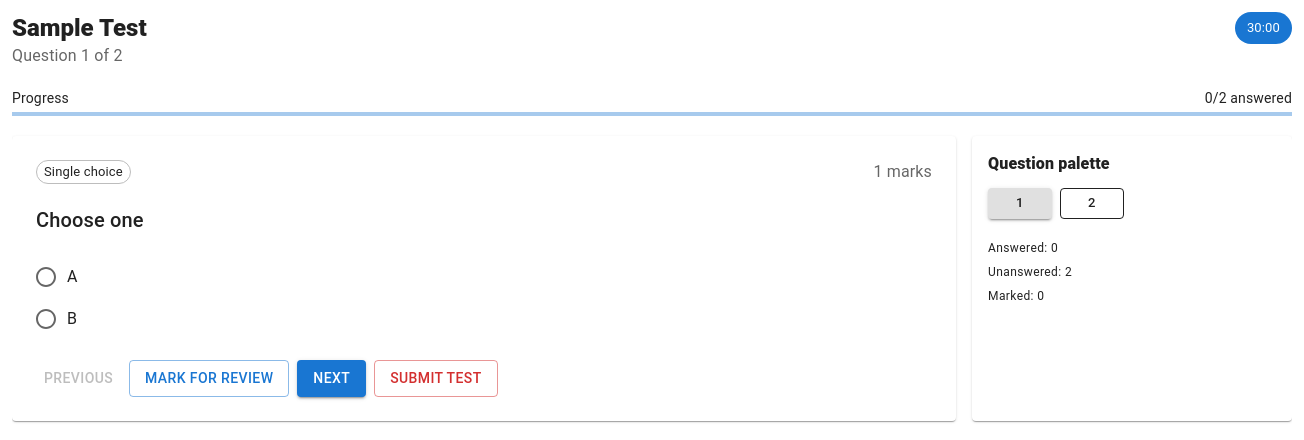
Test: AttemptPage test-taking experience › persists mark-for-review state
Click the button "Mark for review": point(209, 378) x1=129 y1=360 x2=289 y2=396
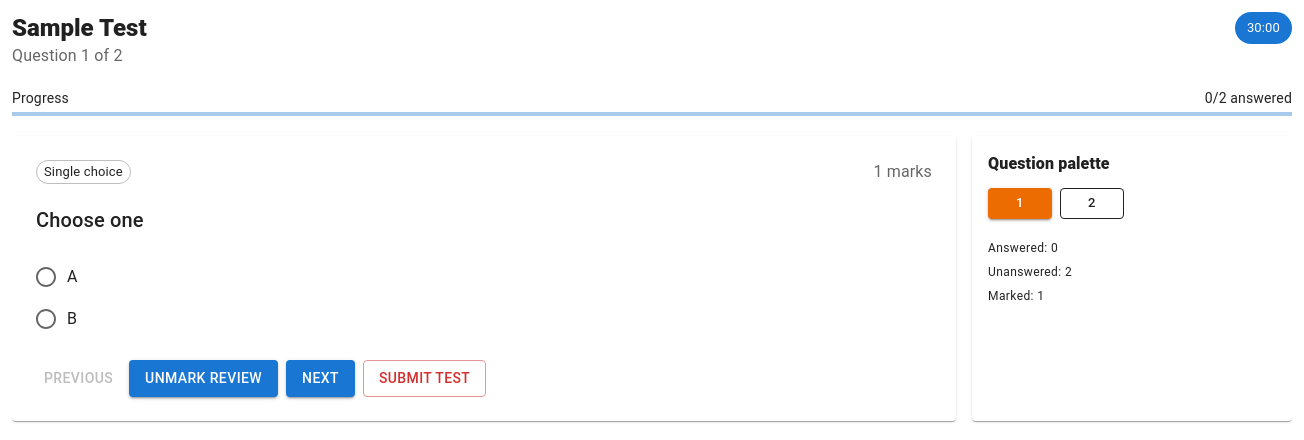
Now the text "Unmark review" is shown, box x1=129 y1=360 x2=278 y2=396
